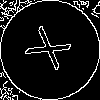X: (25, 25, 81, 77)
